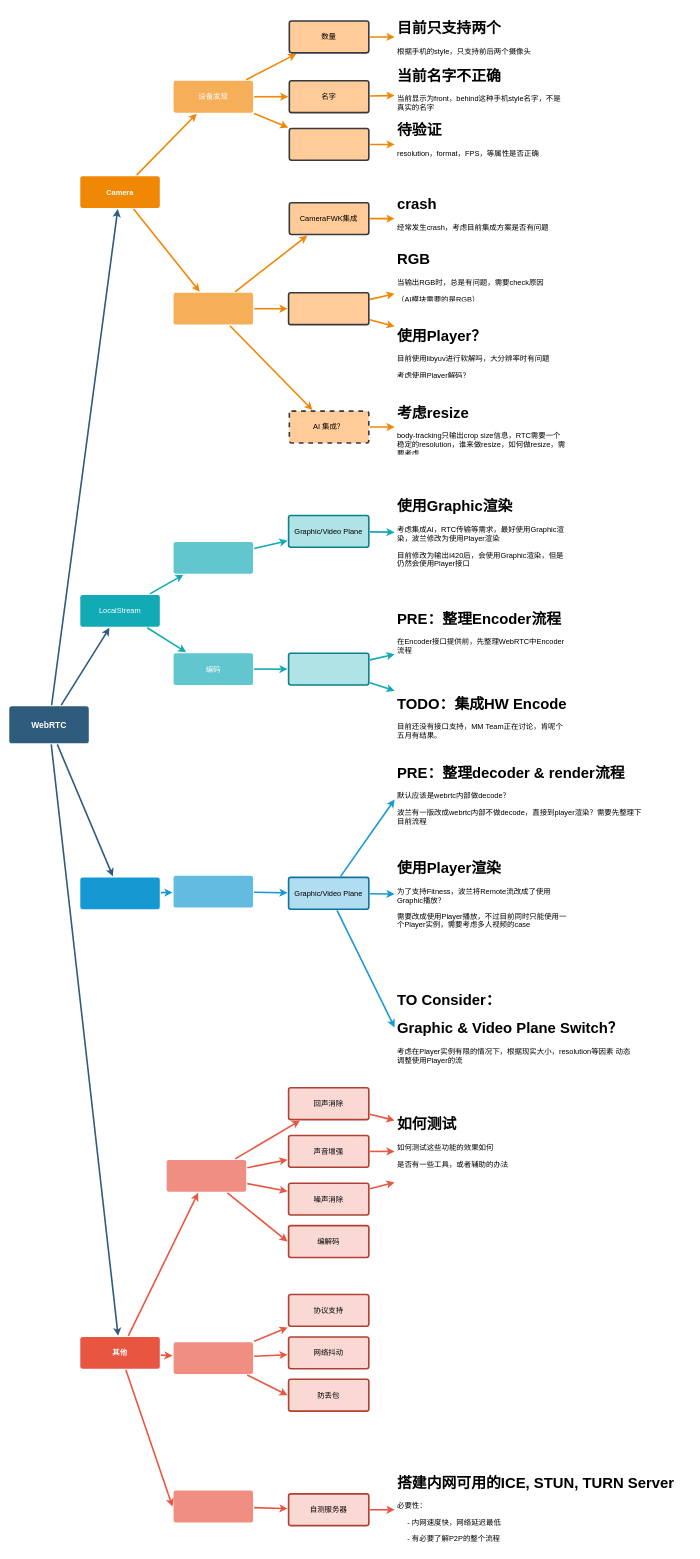
Image size: 700x1559. Some labels were removed from this diagram. Each missing label, with the centre of its shape:
Audio Processor: pixel 206 1175
Encoded Data处理: pixel 328 308
HW Encode: pixel 328 669
RemoteStream: pixel 120 893
Server: pixel 213 1506
Transport: pixel 213 1358
数据采集: pixel 213 308
渲染: pixel 213 557
能力: pixel 328 144
解码&渲染: pixel 213 891
